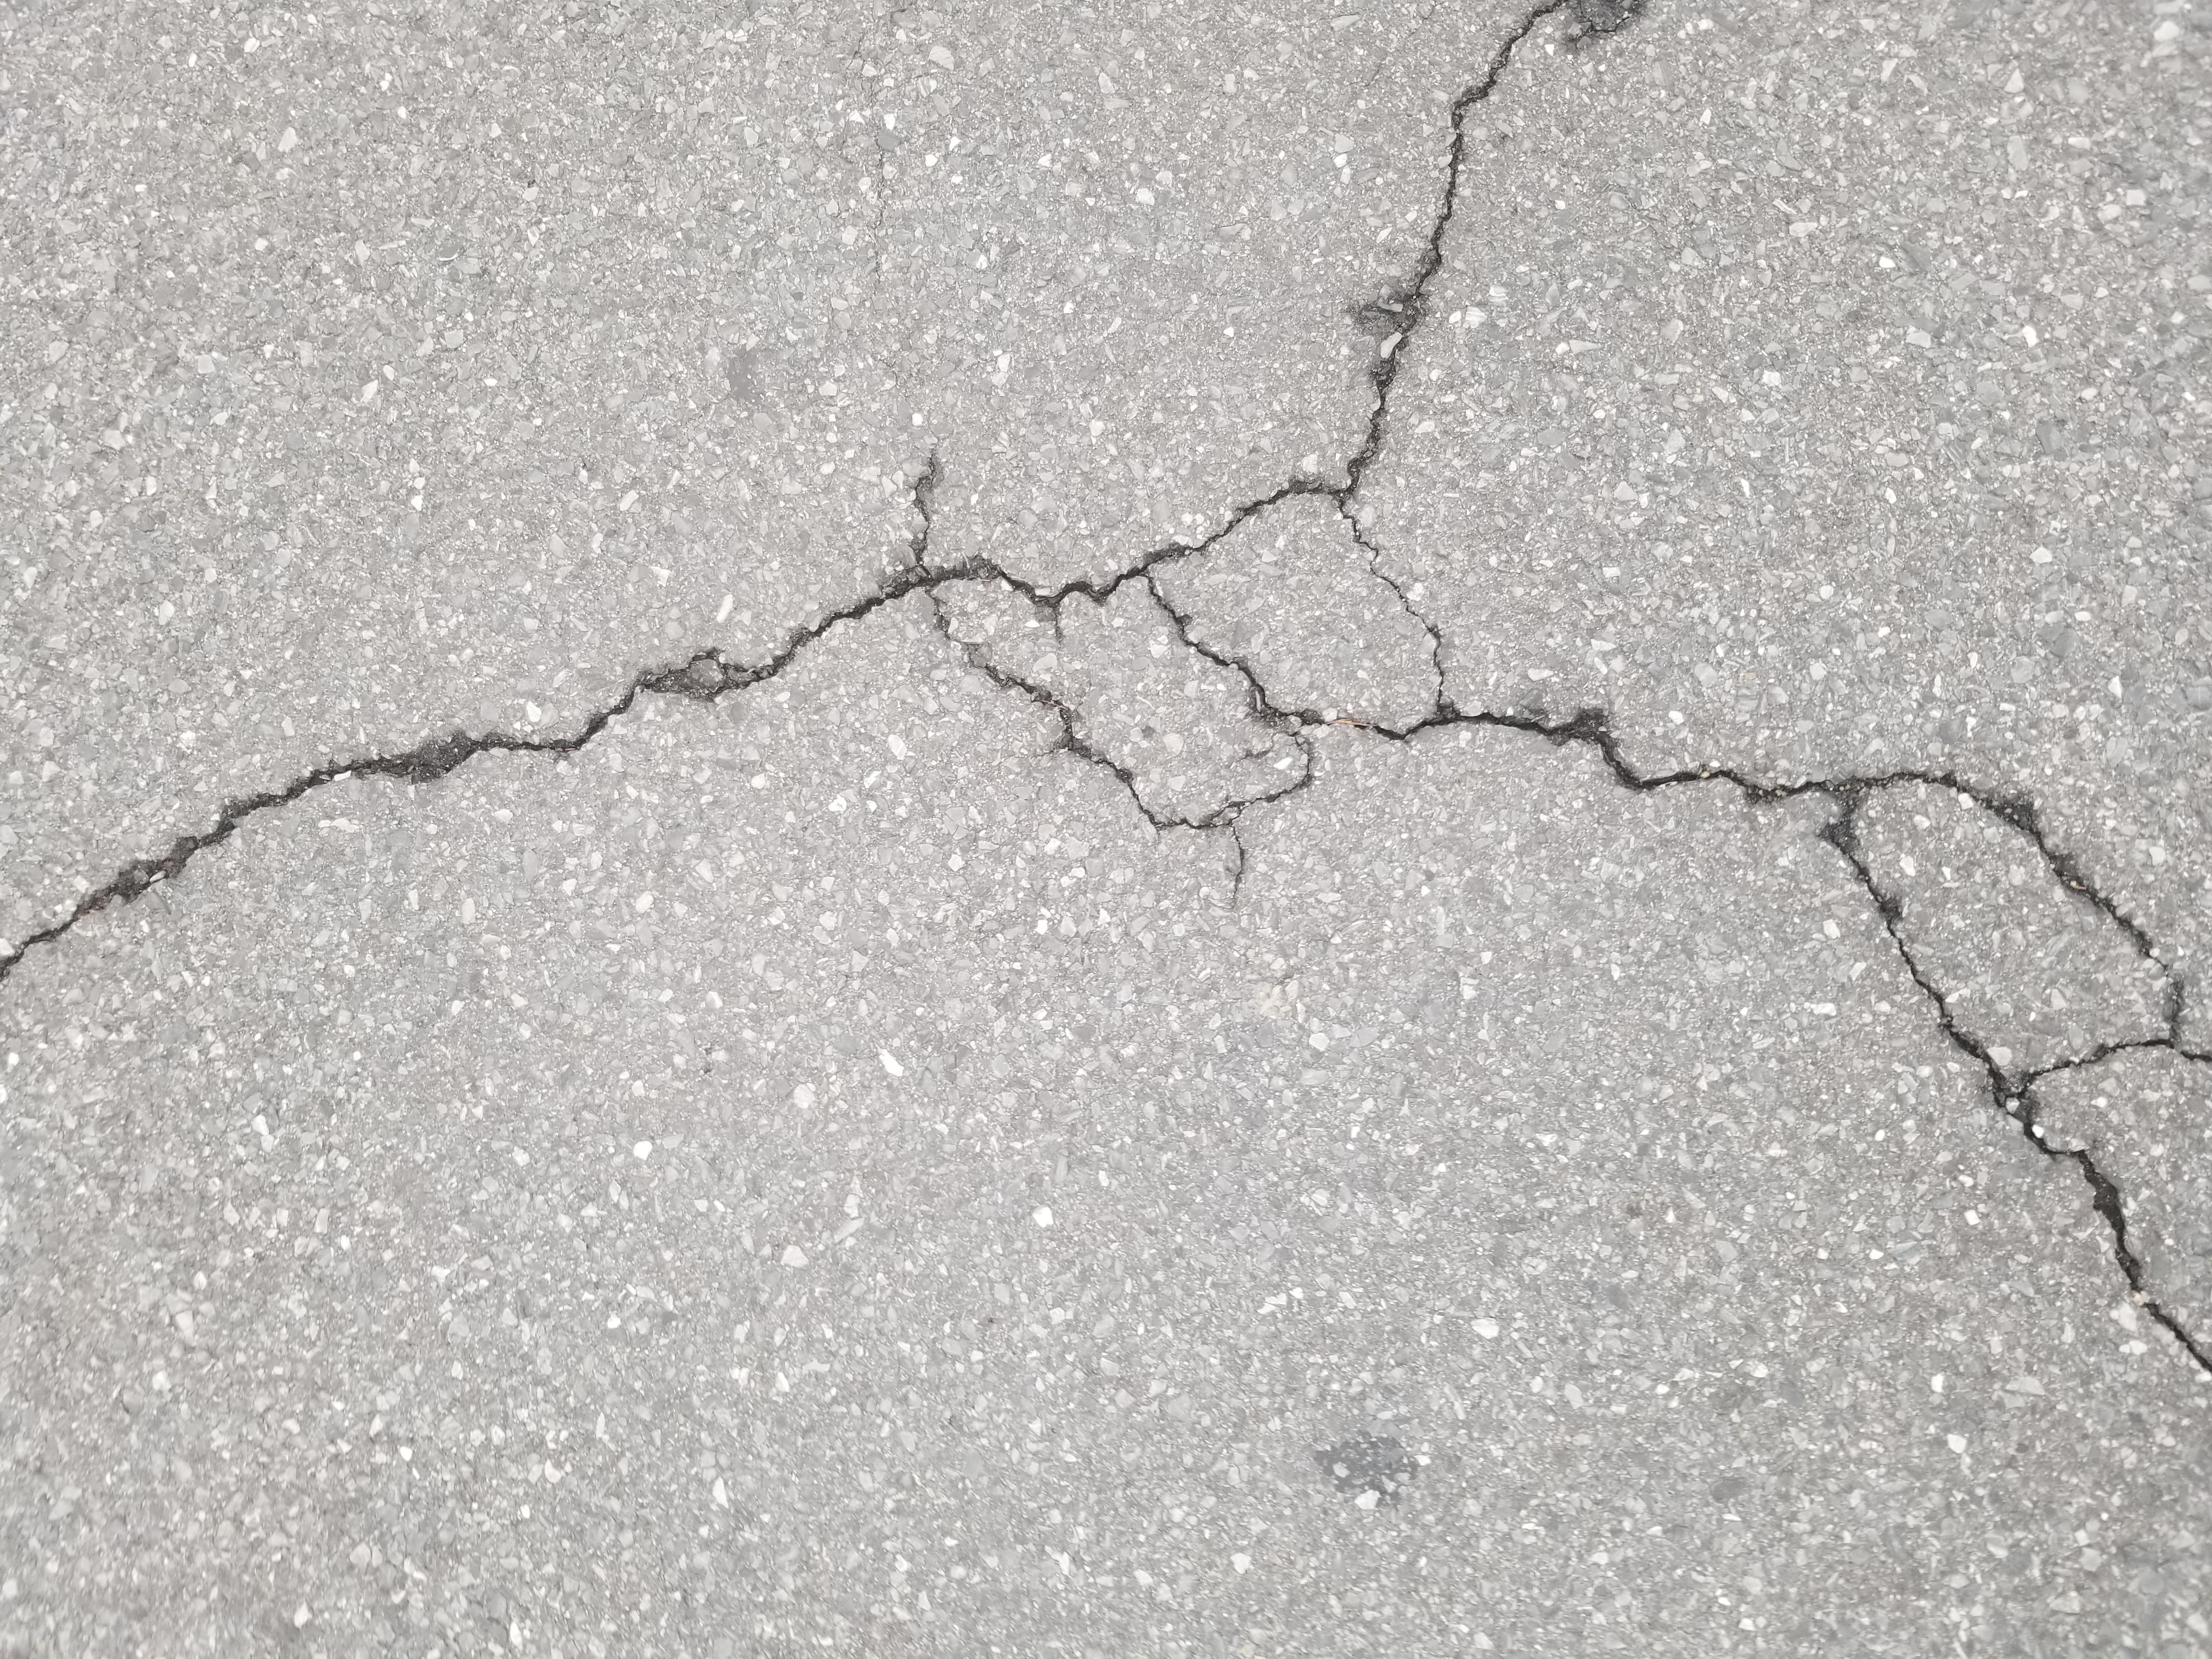crack: (331, 1037, 1489, 1659), (921, 26, 1599, 1025), (1526, 992, 2203, 1169)
